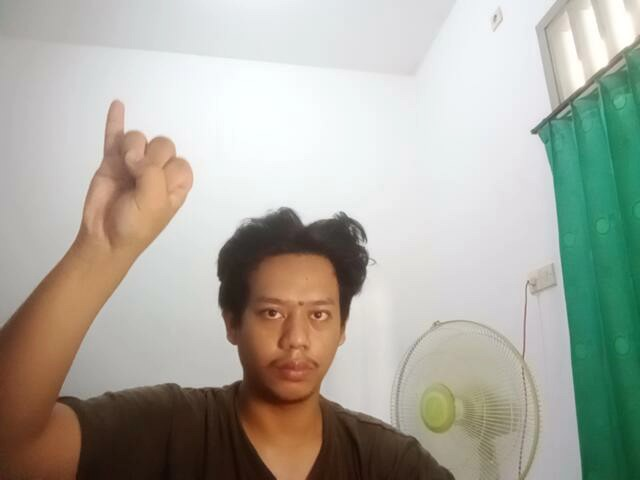I: (72, 89, 201, 260)
